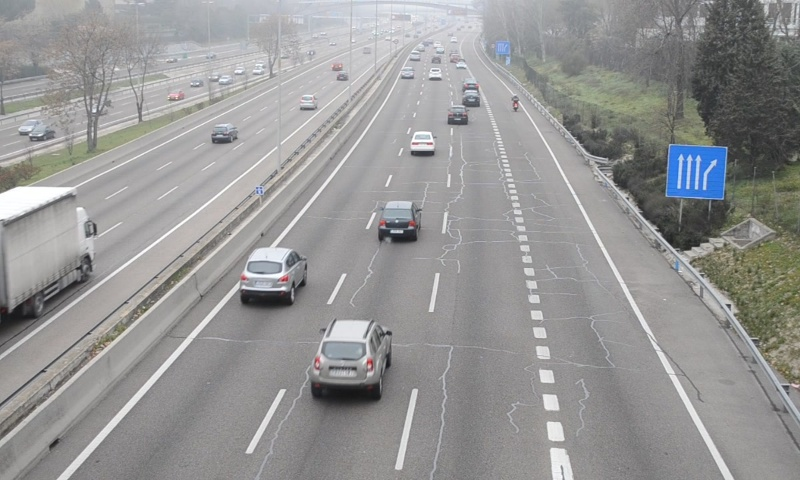car: (310, 320, 392, 389), (242, 248, 308, 294), (378, 201, 420, 237), (410, 130, 436, 153), (446, 104, 469, 126), (462, 90, 482, 106), (463, 78, 480, 92)
motorcycle: (512, 94, 520, 112)
